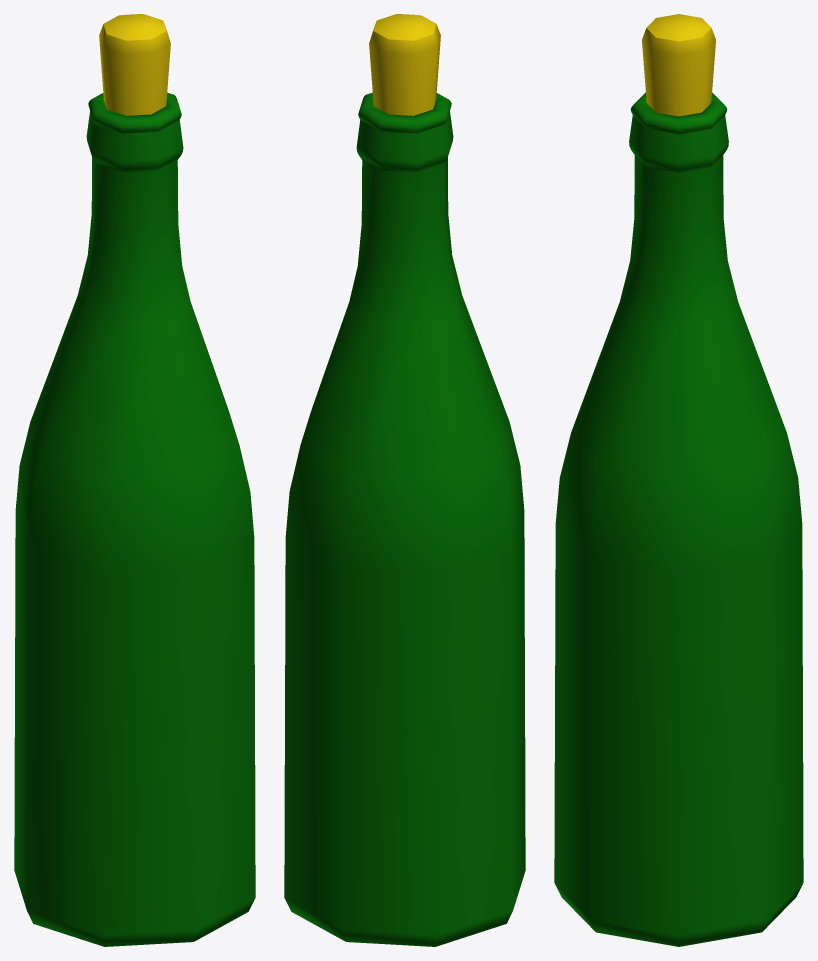
The model's file is Bottle.fbx.
3 views of the same model, side by side, from view 1: azimuth 30°, elevation 25°; view 2: azimuth 150°, elevation 25°; view 3: azimuth 270°, elevation 25° (orthographic).
Parts seen in each view (by area): view 1: polySurface5, pCylinder8; view 2: polySurface5, pCylinder8; view 3: polySurface5, pCylinder8.
Part boxes in pixels (<box>): polySurface5: <box>14,92,255,946</box>; pCylinder8: <box>99,14,170,115</box>; polySurface5: <box>284,92,525,946</box>; pCylinder8: <box>369,14,440,115</box>; polySurface5: <box>554,92,803,946</box>; pCylinder8: <box>642,14,715,116</box>.
Size of the model in its own units: 2 by 7.8 by 2.
